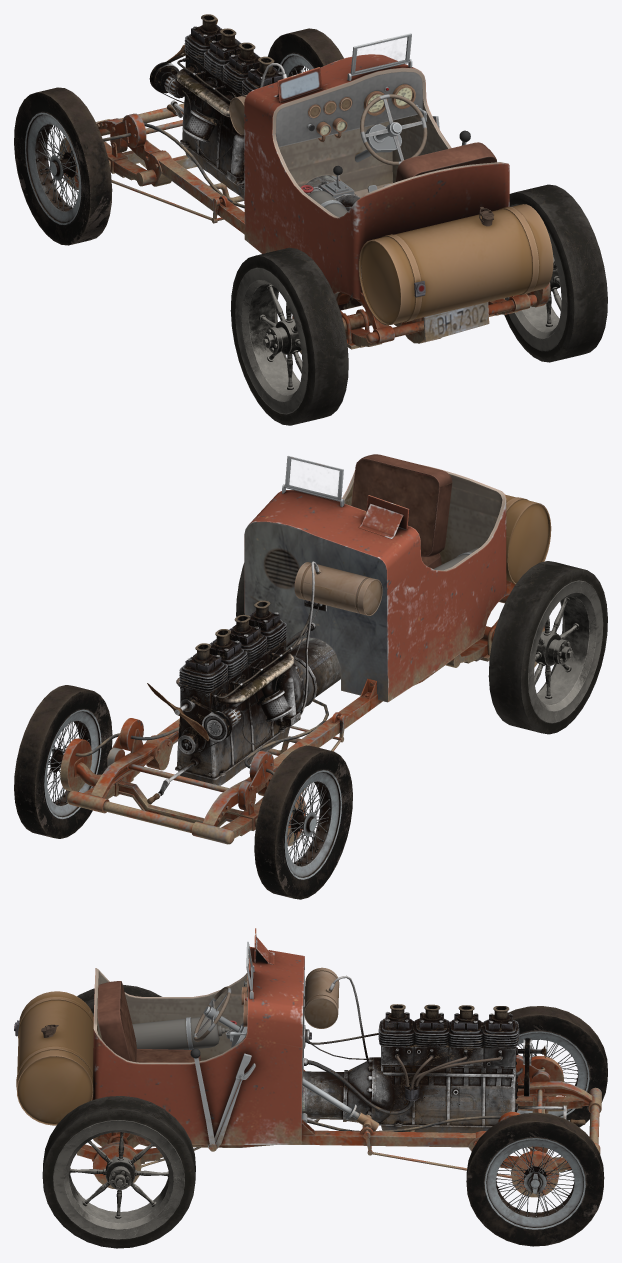
Rendered from car3.glb.
The picture shows the model from 3 angles, top to bottom: view 1: azimuth 30°, elevation 25°; view 2: azimuth 150°, elevation 25°; view 3: azimuth 270°, elevation 25°; orthographic projection. The views are drawn at different scales.
Parts seen in each view (by area): view 1: Body, rear left wheel, front left wheel, engine, rear right wheel, front right wheel; view 2: Body, engine, rear left wheel, front left wheel, front right wheel, engine part, engine part.002; view 3: Body, engine, rear right wheel, front right wheel, front left wheel, rear left wheel.
Boxes of the visible parts, x1,y1,x2,y2 form: Body: (60,33,553,353); rear left wheel: (230,247,348,425); front left wheel: (14,87,112,245); engine: (150,14,360,210); rear right wheel: (504,184,607,362); front right wheel: (268,28,343,77); Body: (60,454,551,846); engine: (147,561,340,804); rear left wheel: (488,561,607,734); front left wheel: (254,745,352,899); front right wheel: (14,685,112,838); engine part: (202,711,231,741); engine part.002: (147,683,209,740); Body: (14,928,601,1197); engine: (302,975,585,1132); rear right wheel: (42,1096,195,1248); front right wheel: (466,1112,604,1246); front left wheel: (507,1006,607,1127); rear left wheel: (77,985,161,1015).
Size of the model in its own units: 1.8 by 1.57 by 3.41.
Materials: 4 (4 with a texture image).
